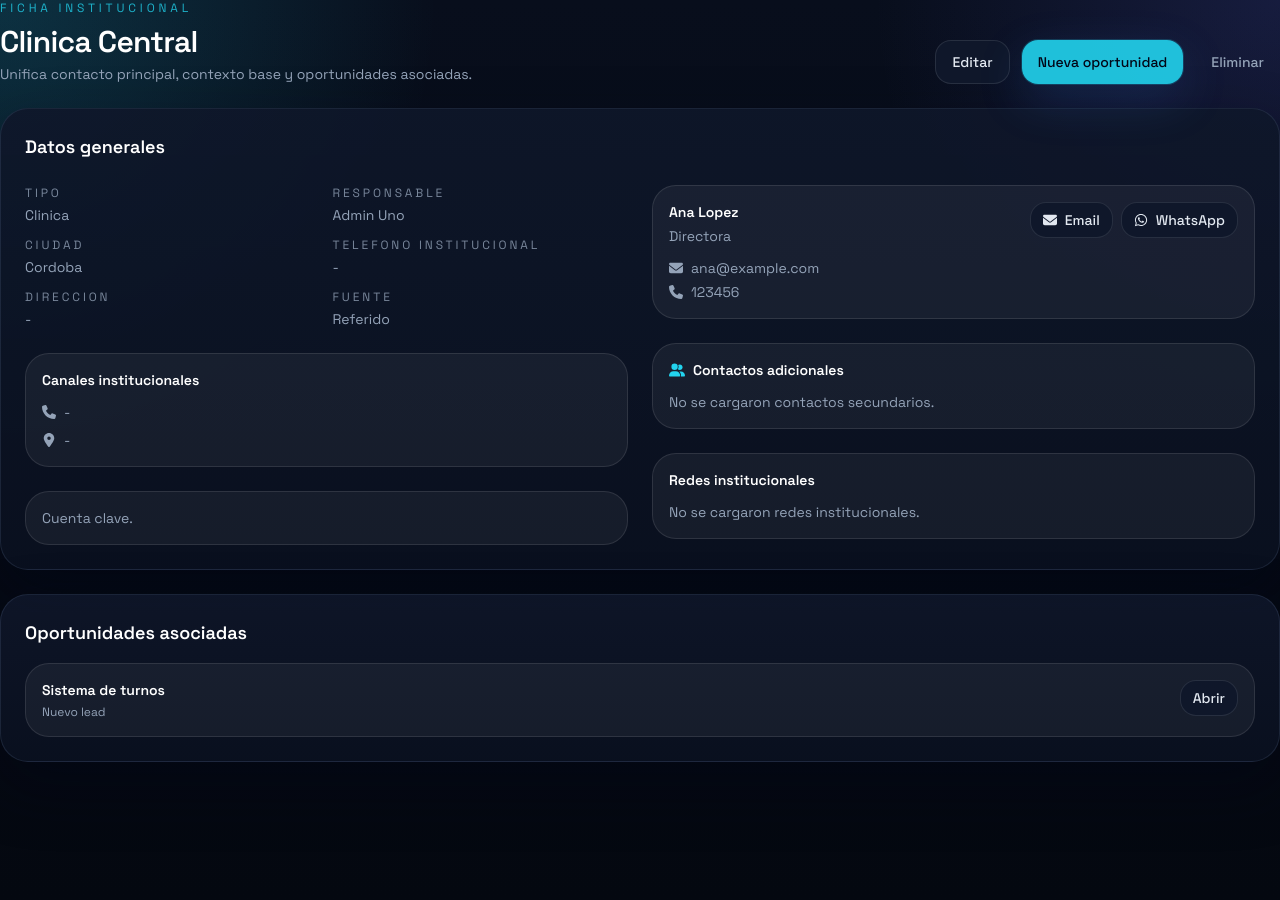
Scenario: InstitutionDetailPage › abre el modal de borrado con el impacto asociado
Expected: the heading "Clinica Central" is shown, [0,22,198,61]
Click the button "Eliminar".
click(1238, 62)  # box [1195,40,1279,84]
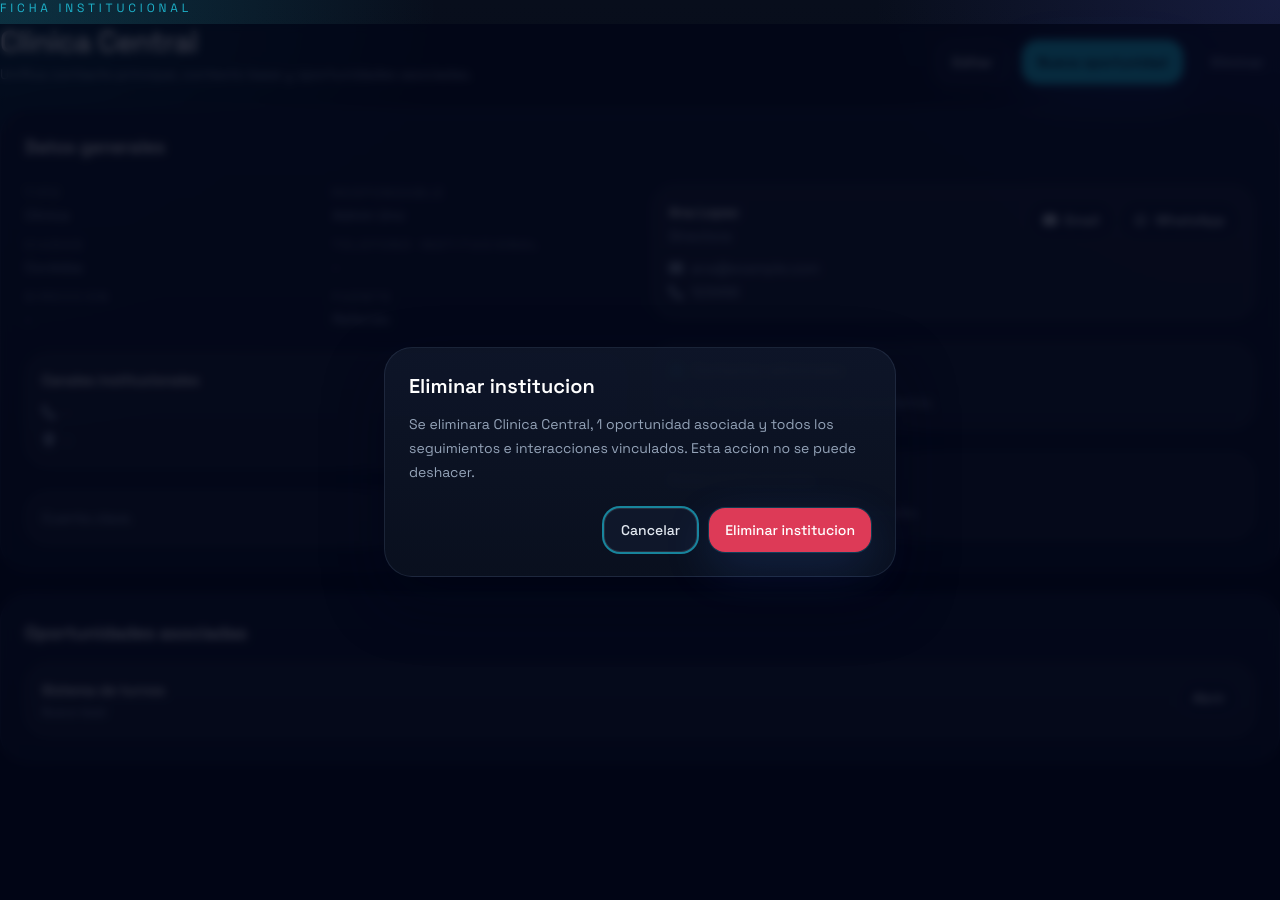
Expected: the dialog "Eliminar institucion" is shown, [384,347,896,577]
Expected: the text "1 oportunidad asociada" is shown, [409,415,856,481]
